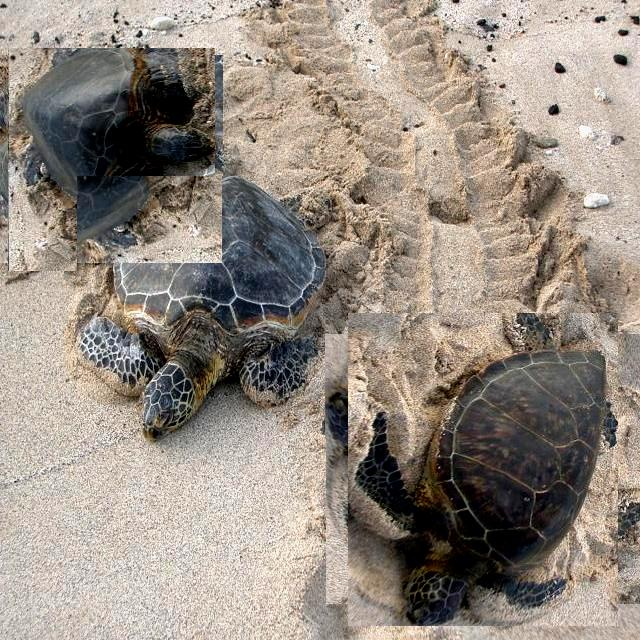Sea turtle: (337, 324, 629, 616), (78, 176, 328, 438), (4, 52, 219, 267)
